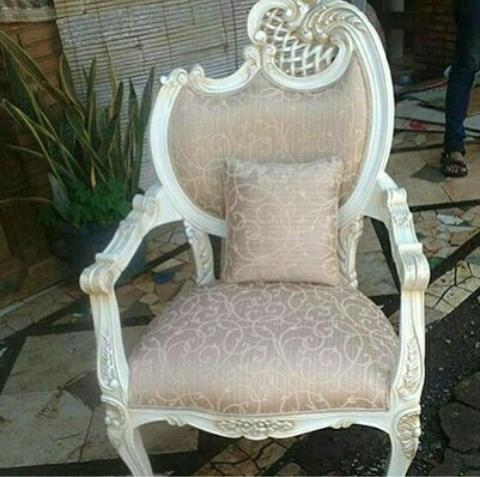Carving Chair: (93, 25, 435, 465)
